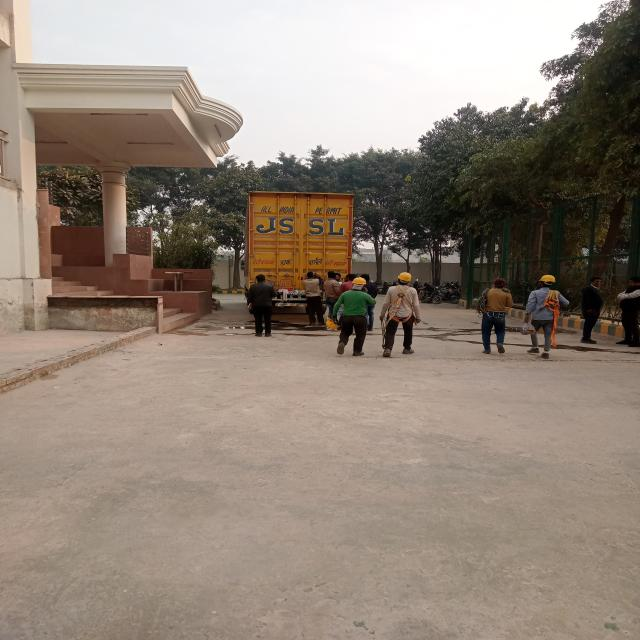no jacket: (374, 269, 416, 355), (522, 271, 558, 360), (335, 276, 374, 357)
unsafe: (476, 277, 515, 357), (575, 274, 606, 347), (244, 274, 279, 338), (616, 278, 640, 345), (298, 271, 326, 326)
